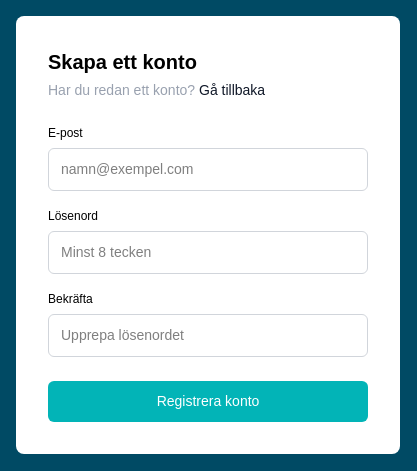
Test: SignupPage › Shows success message on successful signup
Type "test@test.com" into the field labelled "E-post". click: (208, 170)
box: [48,148,368,191]
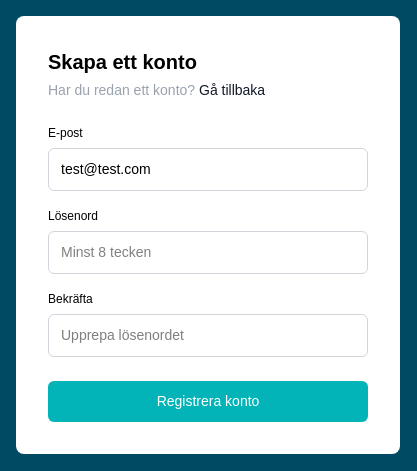
Type "password123" into the password field labelled "Lösenord". click: (208, 252)
box: [48,231,368,274]
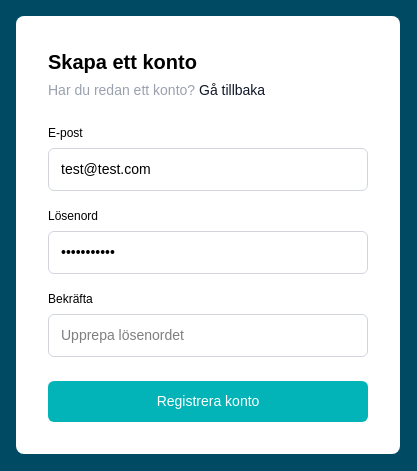
Type "password123" into the password field labelled "Bekräfta". click: (208, 336)
box: [48,314,368,357]
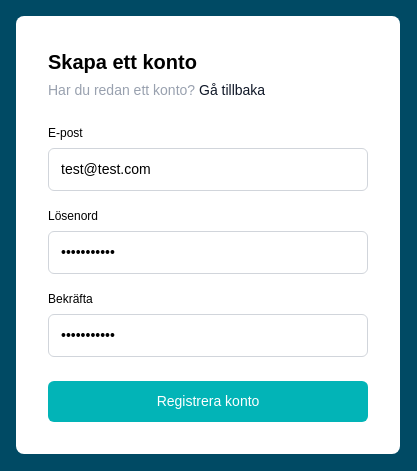
Submit the form from the button "Registrera konto", box [48,381,368,422]
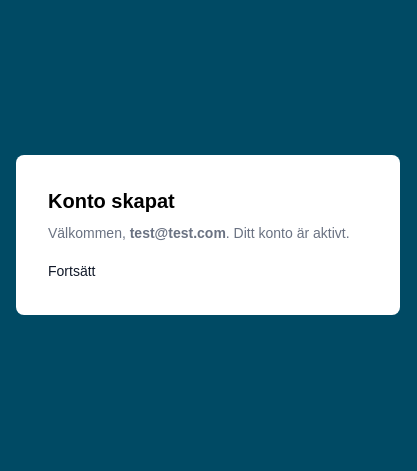
Now the text "test@test.com" is shown, box [130,225,226,241]
